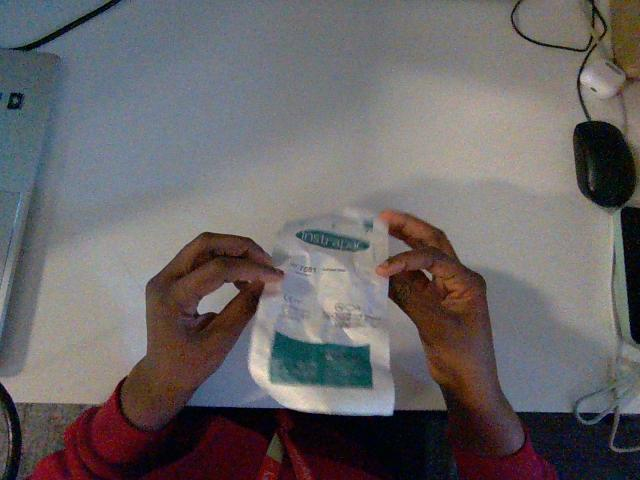gallipot: (249, 210, 394, 414)
